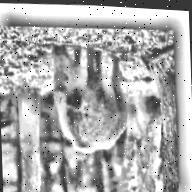boar: (47, 35, 137, 171)
